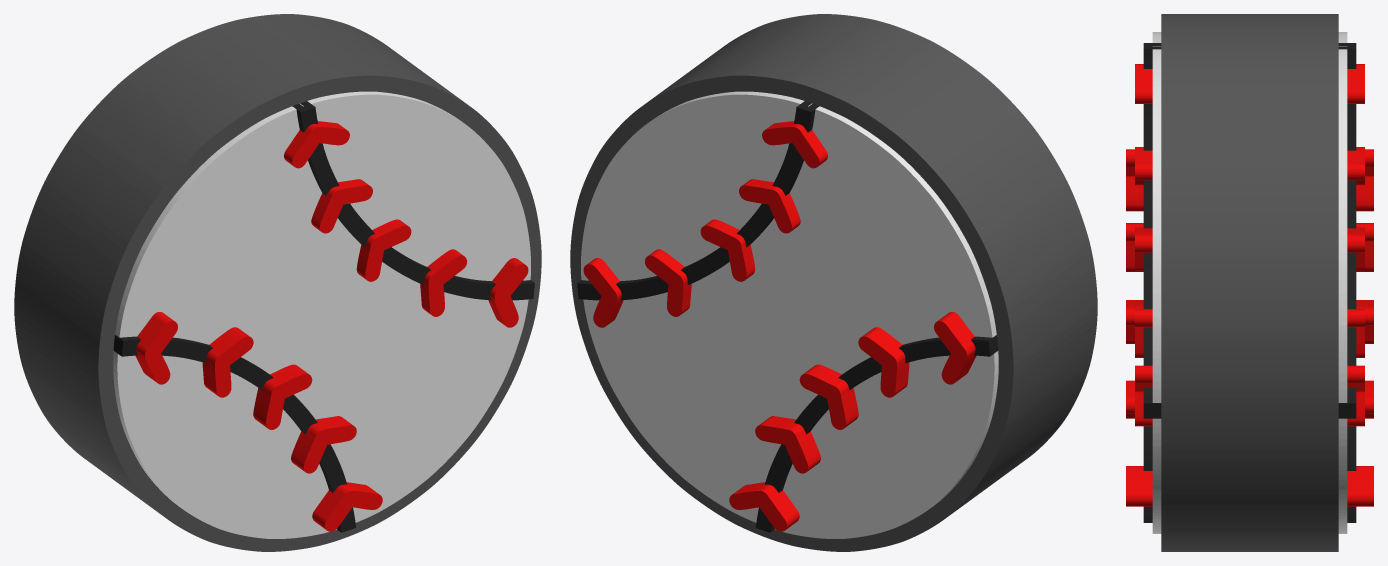
3 renders of one model, left to right at view 1: azimuth 30°, elevation 25°; view 2: azimuth 150°, elevation 25°; view 3: azimuth 270°, elevation 25°, orthographic. The views are drawn at different scales.
Parts seen in each view (by area): view 1: U+26BE_layer01_obj00, U+26BE_layer00_obj00, U+26BE_layer04_obj00, U+26BE_layer03_obj00, U+26BE_layer02_obj00; view 2: U+26BE_layer01_obj00, U+26BE_layer00_obj00, U+26BE_layer04_obj00, U+26BE_layer03_obj00, U+26BE_layer02_obj00; view 3: U+26BE_layer00_obj00, U+26BE_layer01_obj00, U+26BE_layer03_obj00, U+26BE_layer02_obj00, U+26BE_layer04_obj00.
Part boxes in pixels (<box>): U+26BE_layer01_obj00: <box>113,91,530,538</box>; U+26BE_layer00_obj00: <box>14,14,541,551</box>; U+26BE_layer04_obj00: <box>135,312,382,531</box>; U+26BE_layer03_obj00: <box>284,121,528,327</box>; U+26BE_layer02_obj00: <box>113,101,534,532</box>; U+26BE_layer01_obj00: <box>581,91,998,538</box>; U+26BE_layer00_obj00: <box>570,14,1097,551</box>; U+26BE_layer04_obj00: <box>729,312,976,531</box>; U+26BE_layer03_obj00: <box>583,121,827,327</box>; U+26BE_layer02_obj00: <box>577,101,998,532</box>; U+26BE_layer00_obj00: <box>1161,14,1338,551</box>; U+26BE_layer01_obj00: <box>1152,32,1347,533</box>; U+26BE_layer03_obj00: <box>1135,64,1364,426</box>; U+26BE_layer02_obj00: <box>1143,43,1356,522</box>; U+26BE_layer04_obj00: <box>1126,149,1373,506</box>.
Size of the model in its own units: 0.6085 by 0.6084 by 0.28.
